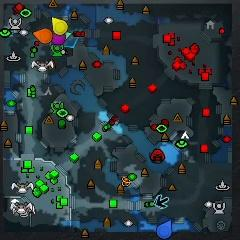p1: (157, 220, 172, 239)
p2: (65, 32, 72, 40)
p3: (50, 31, 65, 45)
p4: (51, 16, 68, 35)
p5: (33, 28, 52, 45)
x3Clone: (154, 194, 170, 209)
